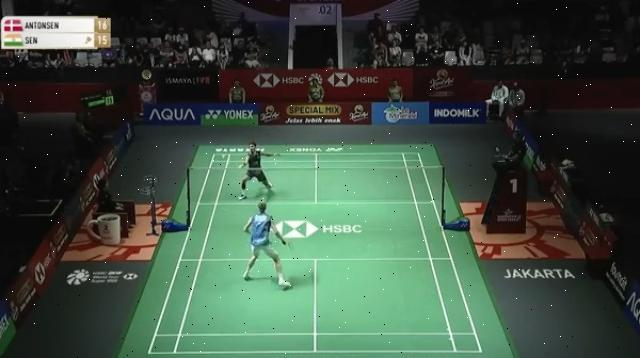Shuttlecock: (218, 151, 228, 159)
